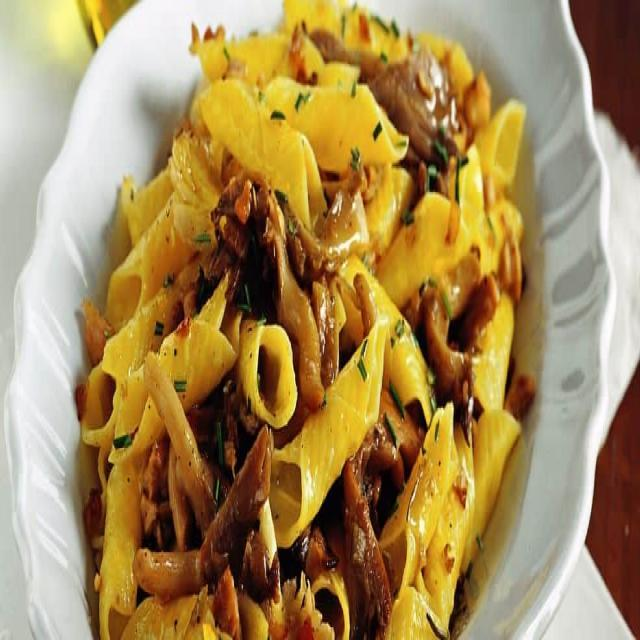Pasta al ragu: (65, 2, 559, 621)
